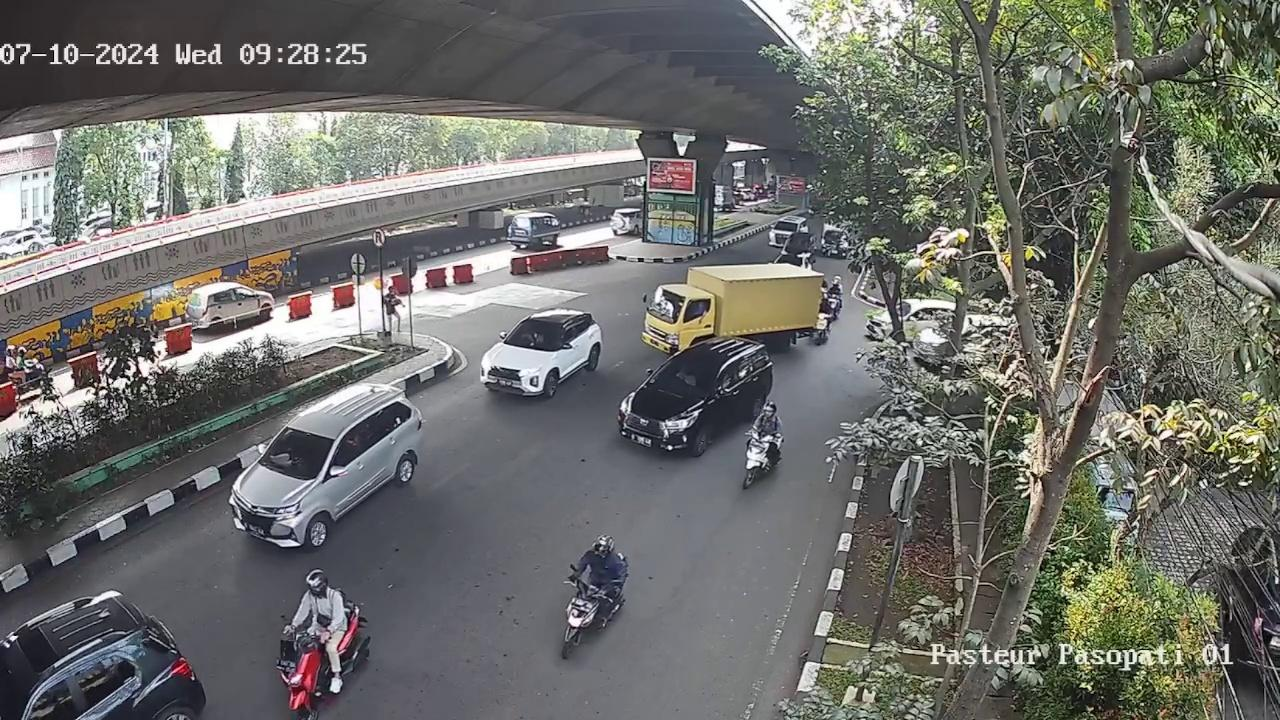pakai: (525, 329, 542, 344)
tidak-pakai: (670, 366, 697, 386)
windshield: (260, 422, 339, 480), (652, 356, 722, 401), (505, 320, 576, 350)
